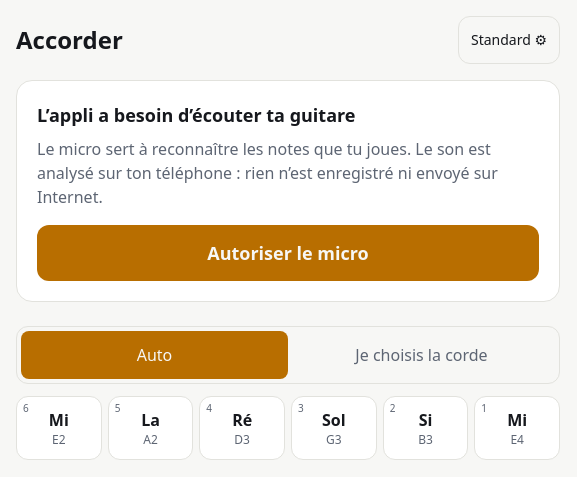
TunerPage (sans micro) › choisir une corde passe en mode manuel
Click the button with aria-label "5e corde : La (A)" at [151, 428], box [108,396,193,460]
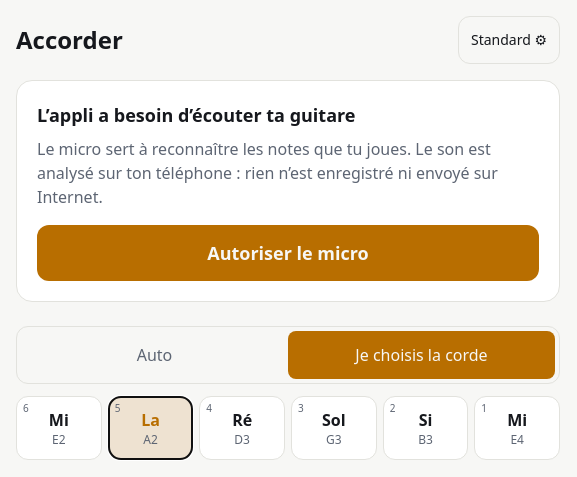
Now the radio button labelled "Je choisis la corde" is checked, box [288,331,555,379]
Now the button with aria-label "5e corde" is pressed, box [108,396,193,460]
